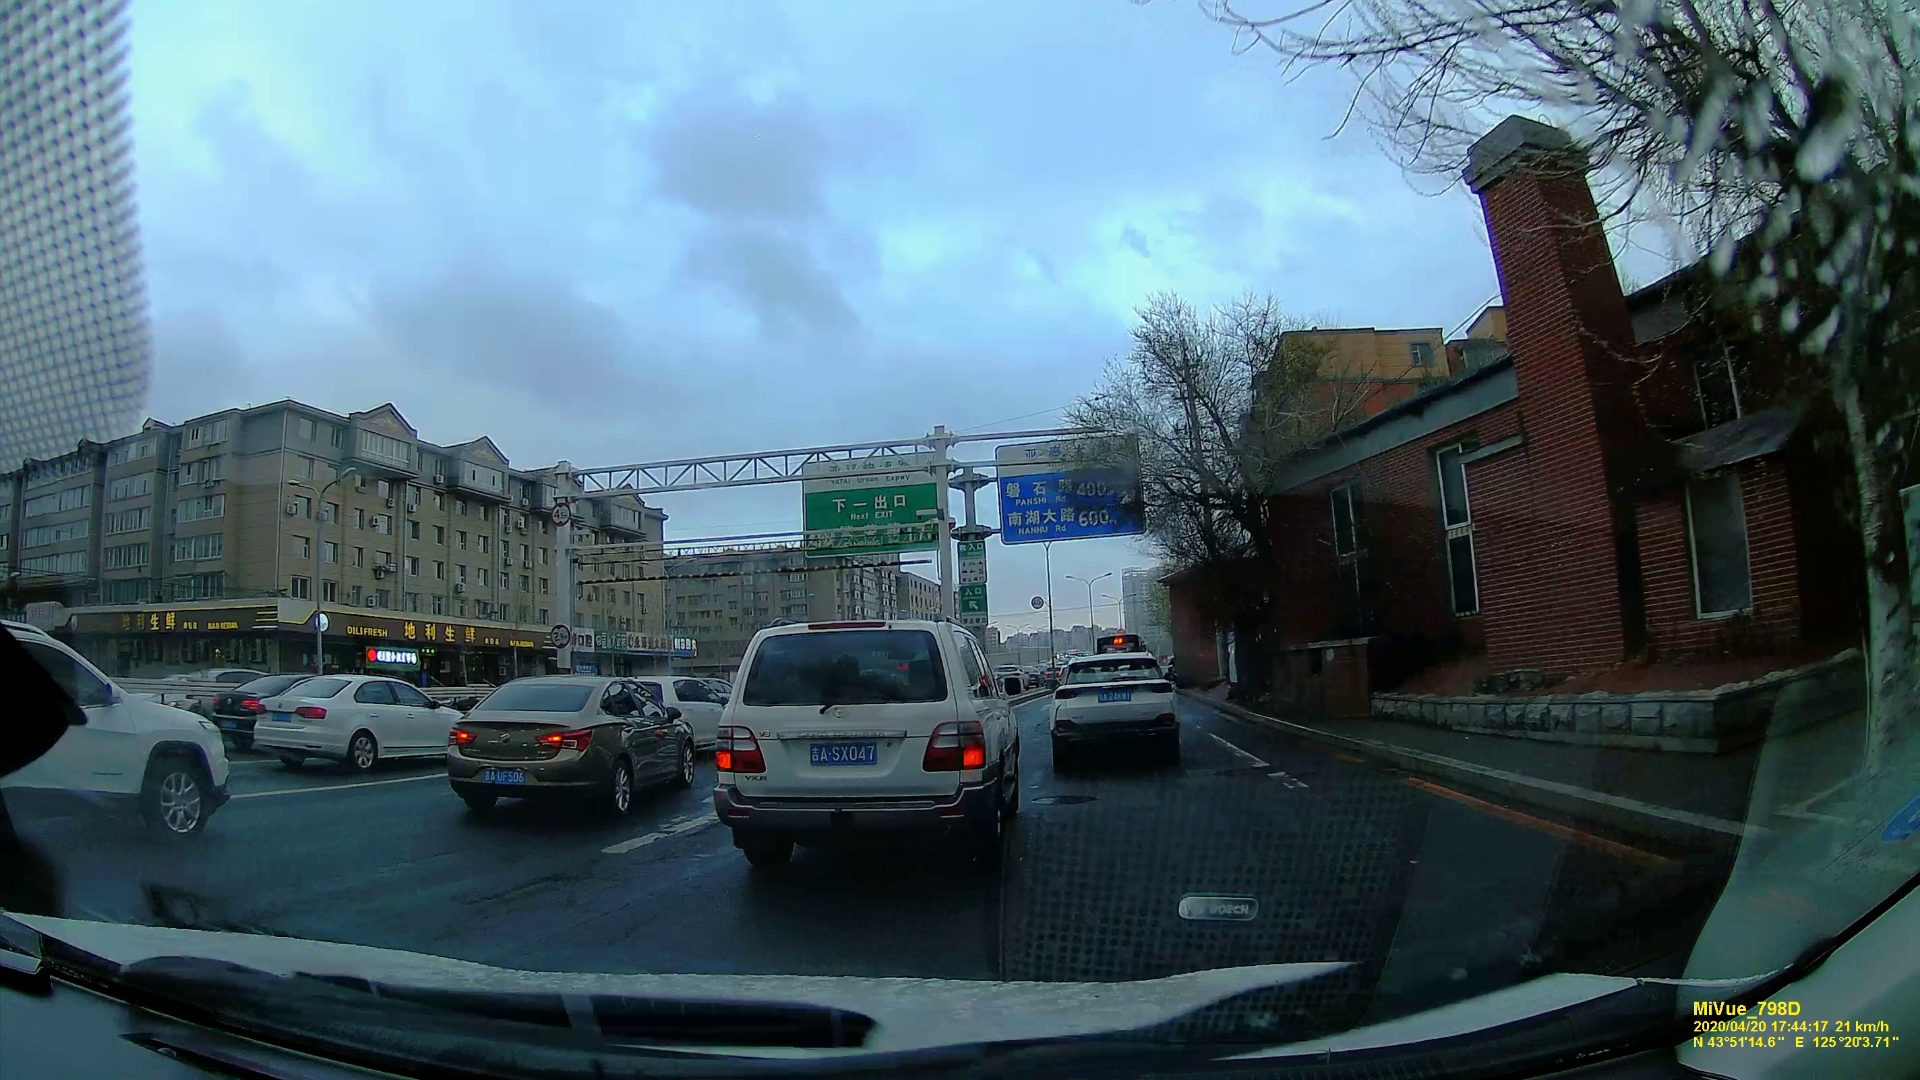traffic_sign: (997, 439, 1141, 539), (806, 462, 936, 547), (951, 542, 986, 632)
vehicle: (709, 609, 1027, 849), (0, 626, 233, 833), (439, 670, 699, 814), (248, 670, 444, 770), (1044, 650, 1174, 757)
